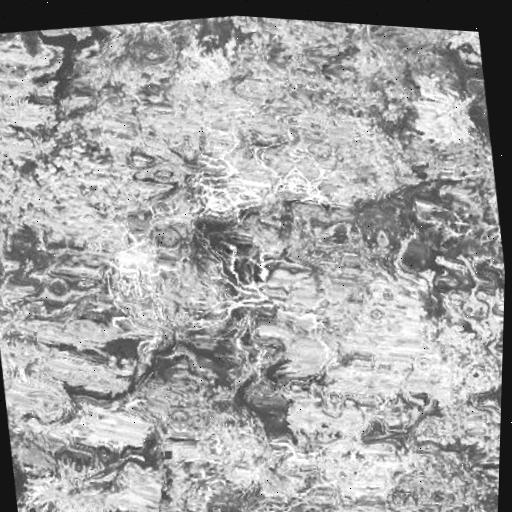tree-top: (61, 34, 237, 175), (313, 235, 466, 397), (366, 261, 505, 404), (0, 134, 148, 262), (270, 368, 408, 502), (89, 220, 220, 356), (280, 180, 424, 292), (271, 18, 432, 108), (295, 92, 415, 209), (131, 341, 246, 457), (187, 394, 286, 506), (385, 428, 500, 512), (183, 127, 274, 233), (0, 25, 72, 154), (398, 60, 491, 159), (93, 230, 182, 329), (0, 325, 79, 429), (65, 382, 158, 467), (422, 274, 505, 364), (26, 456, 117, 512), (98, 449, 172, 512), (460, 389, 501, 497), (306, 488, 416, 512), (424, 28, 481, 59), (14, 482, 36, 512)
